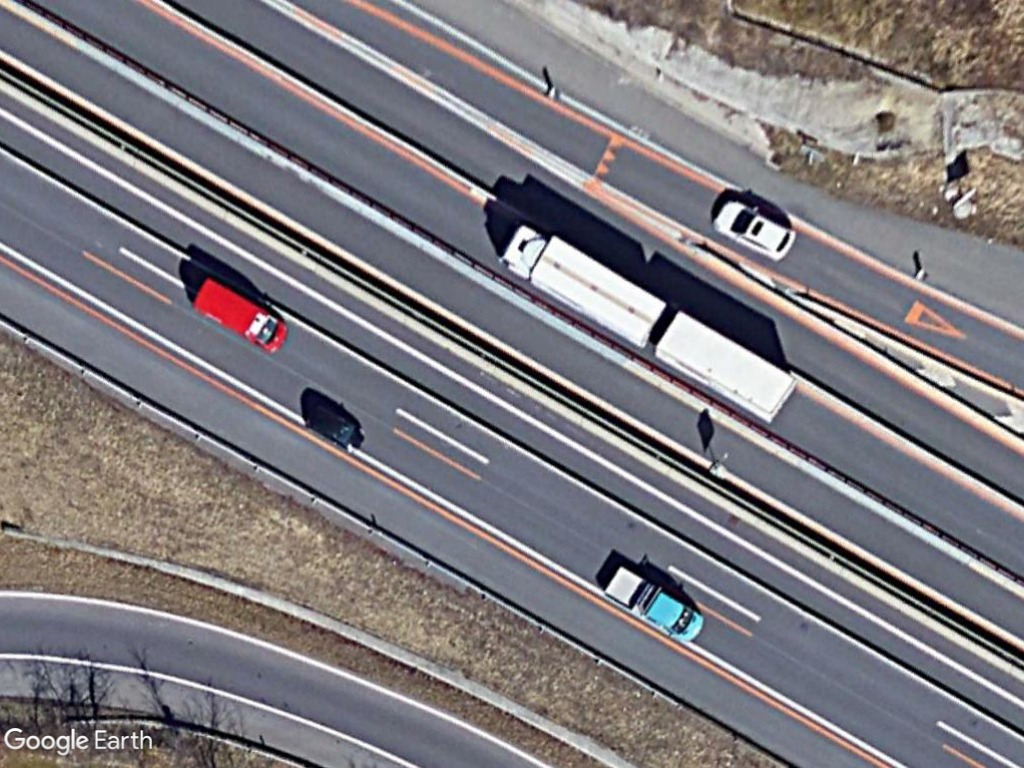car: (711, 195, 801, 263)
truck: (498, 218, 669, 351)
van: (187, 276, 292, 356)
